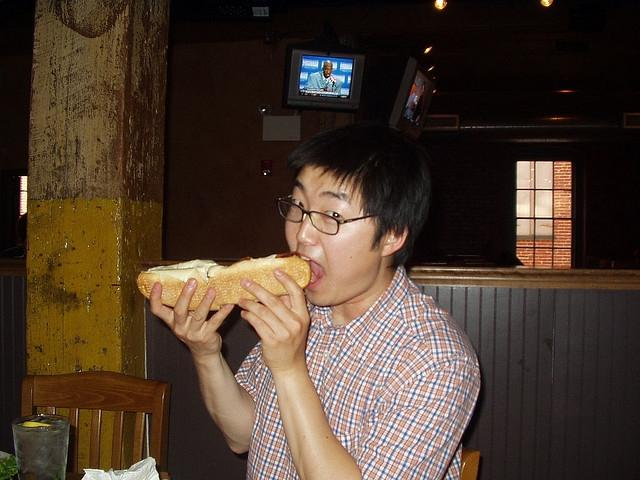lemon: (22, 422, 52, 428)
